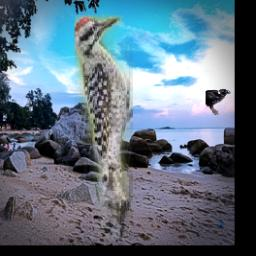Crow: (206, 88, 231, 115)
Woodpecker: (75, 16, 133, 242)
